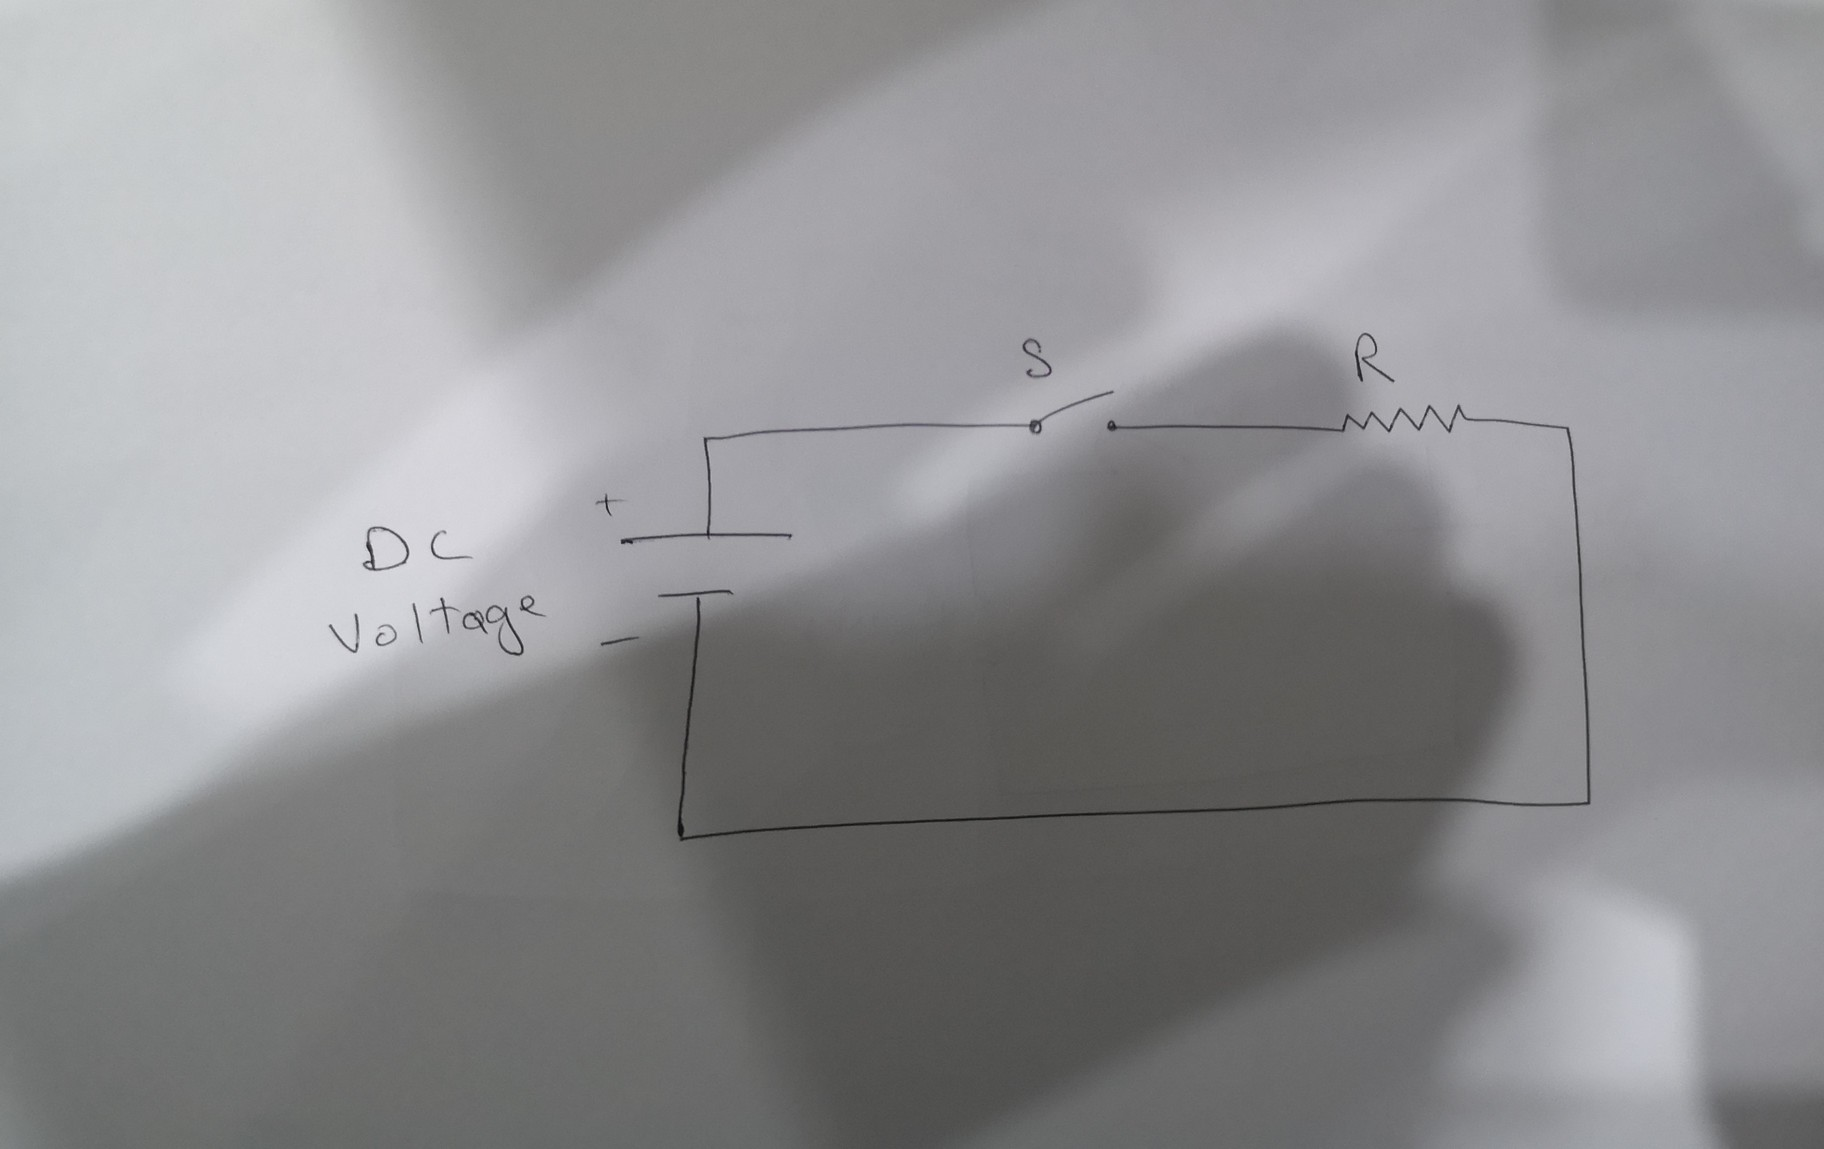junction: (1550, 416, 1580, 445), (667, 819, 695, 849), (694, 429, 717, 453), (1578, 792, 1598, 813)
resistor: (1329, 402, 1476, 439)
switch: (1025, 383, 1128, 446)
text: (322, 588, 552, 661), (353, 522, 484, 576), (1351, 330, 1400, 388), (1017, 334, 1059, 384)
voltage.dc: (612, 526, 806, 606)
